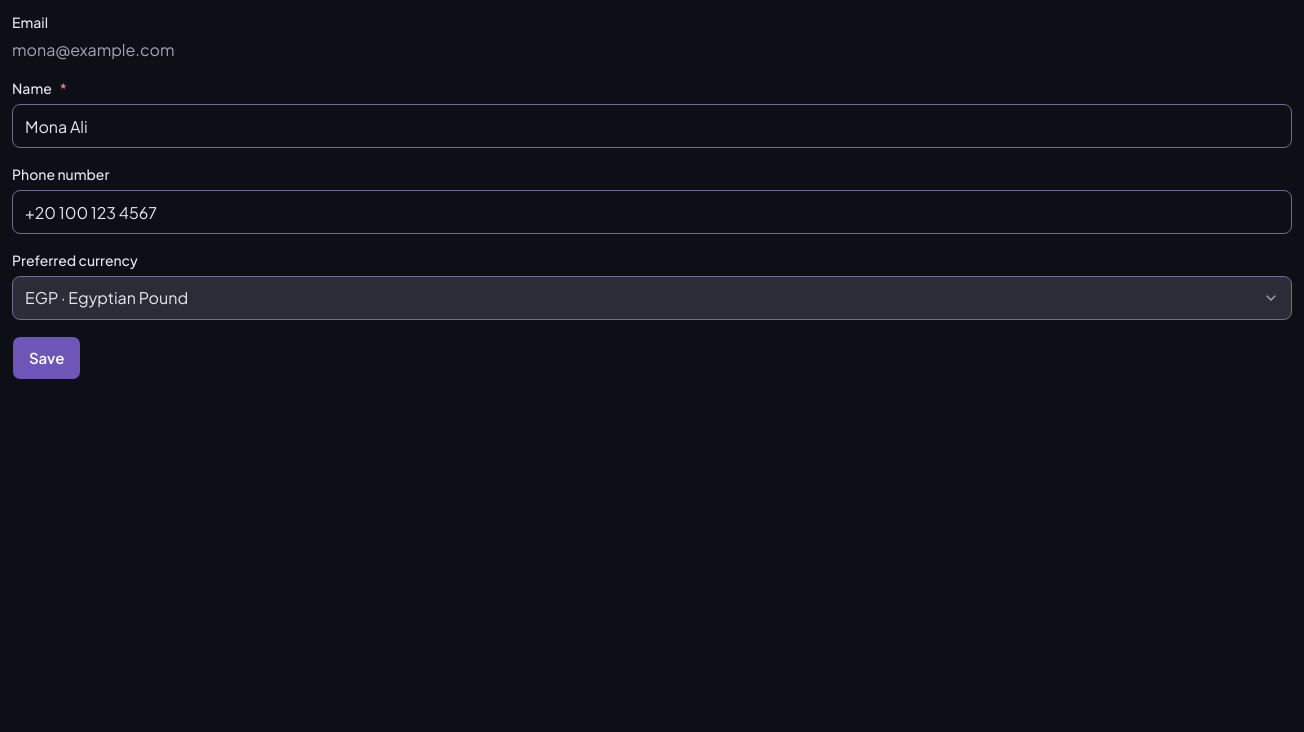
a backend error on name is shown under that field
What coordinates should you click on to do the following:
click the button "Save"
I would click on:
 (47, 358)
Its box is 12,336 -> 81,380.
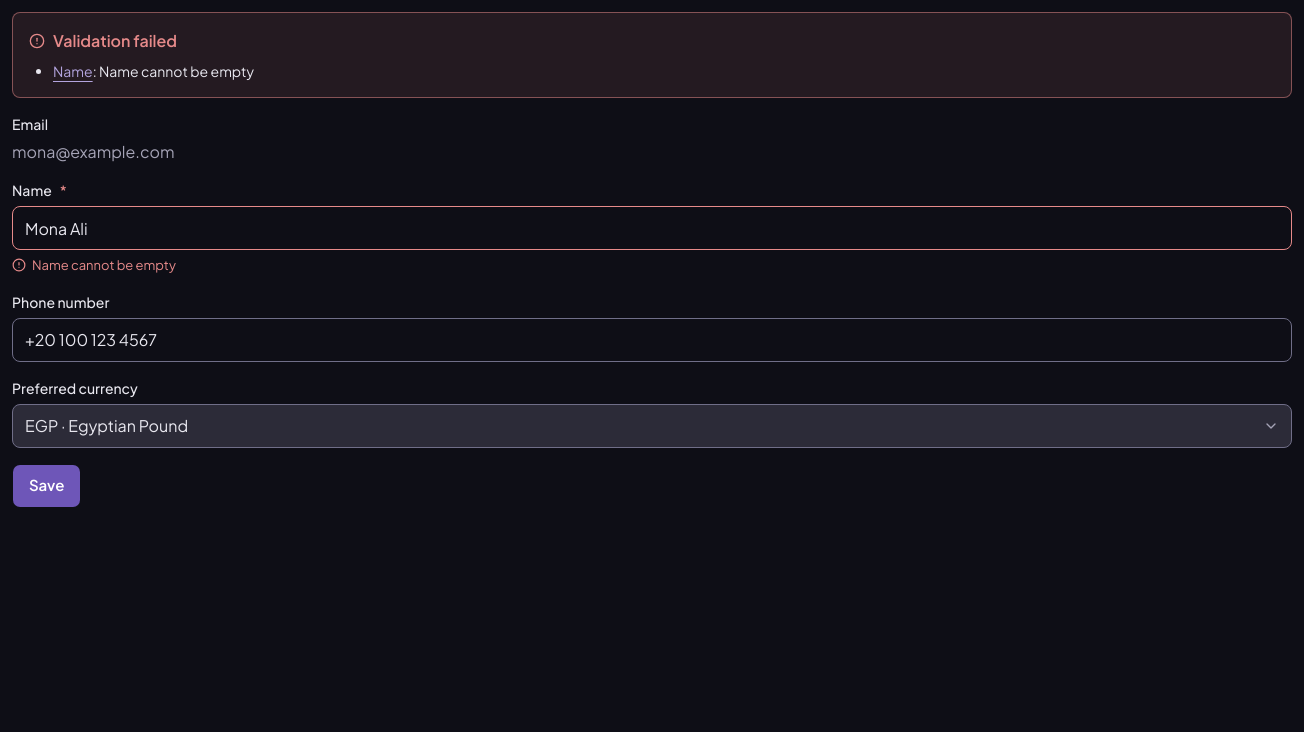
Now the message "Validation failed Name : Name cannot be empty" is shown, box 12,12 -> 1292,98
Now the element showing "Name cannot be empty" is shown, box 12,257 -> 176,273
